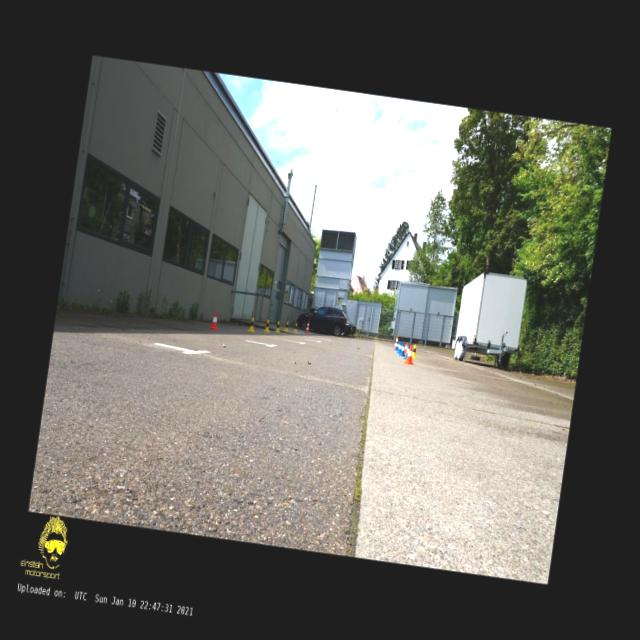blue_cone: (403, 342, 410, 360), (398, 342, 406, 356), (398, 341, 402, 354), (394, 341, 398, 350)
large_orange_cone: (304, 320, 311, 334), (394, 334, 399, 348)
orange_cone: (404, 343, 416, 365), (209, 310, 221, 331), (404, 342, 408, 354)
yellow_cone: (246, 316, 256, 333), (263, 318, 271, 332), (411, 344, 418, 359), (274, 320, 282, 333), (284, 320, 290, 332), (293, 323, 298, 333)
